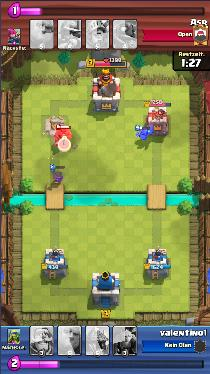ally_mini_pekka: (135, 124, 153, 140)
ally_musketeer: (50, 166, 63, 183)
enemy_hunter: (54, 127, 73, 145)
